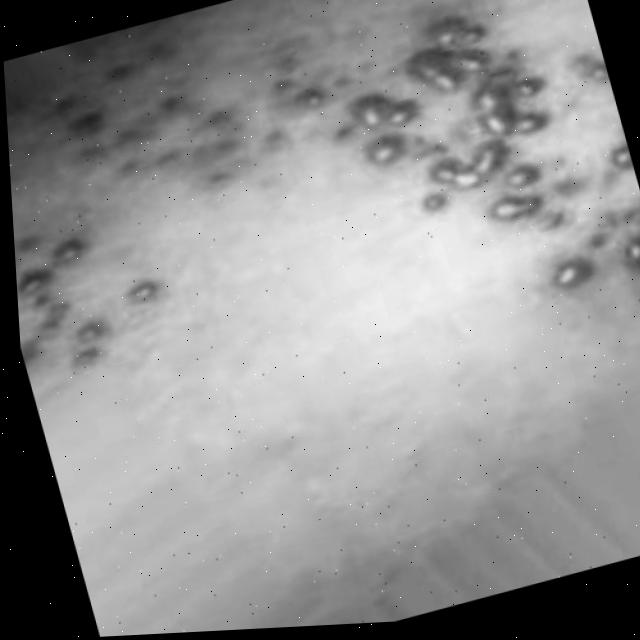Shingles: (322, 0, 640, 335), (31, 0, 333, 193), (13, 216, 172, 382)
